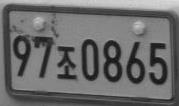0: (80, 38, 99, 81)
5: (148, 42, 168, 85)
6: (125, 41, 145, 84)
7: (33, 35, 53, 78)
8: (102, 39, 123, 82)
9: (12, 34, 31, 76)
조: (56, 45, 77, 80)
